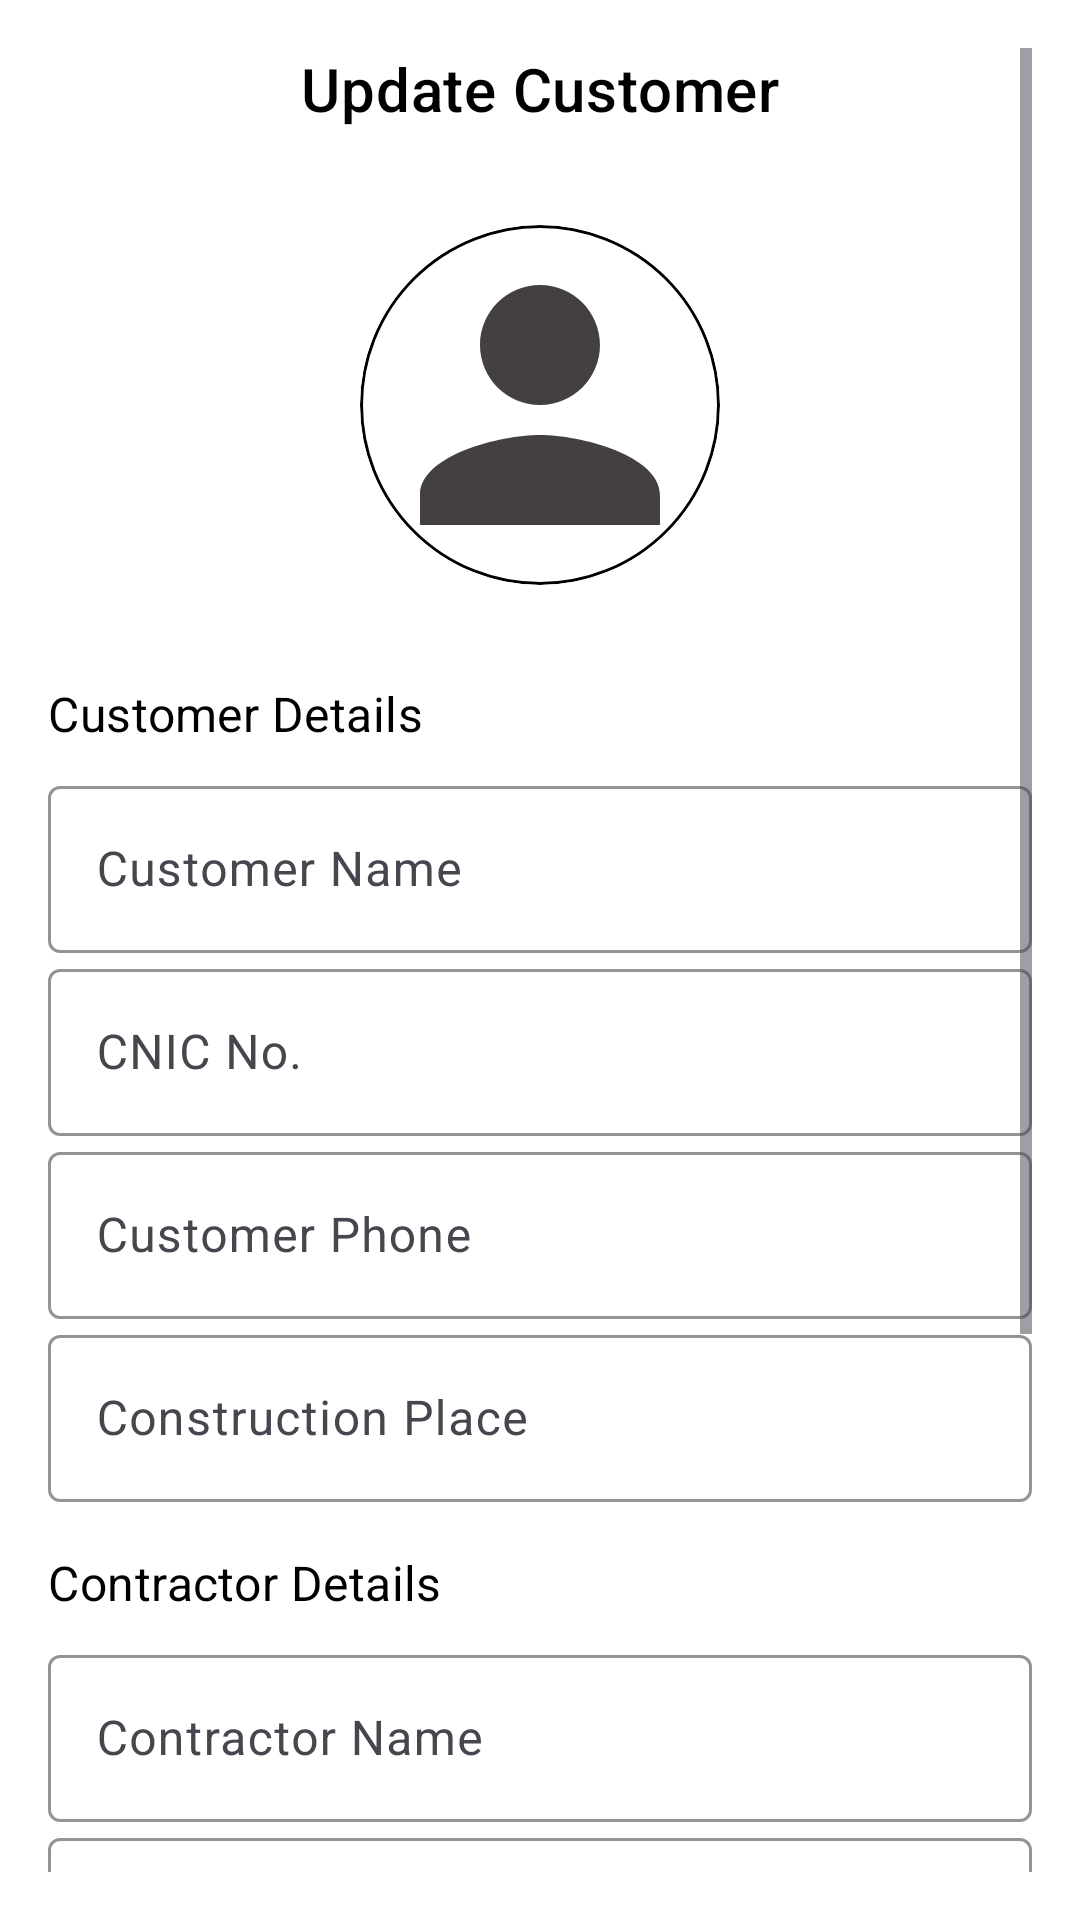

Icons on this 1080 x 1920 Android screen, each with the point to tap as point (x, y):
place holder: point (540, 405)
